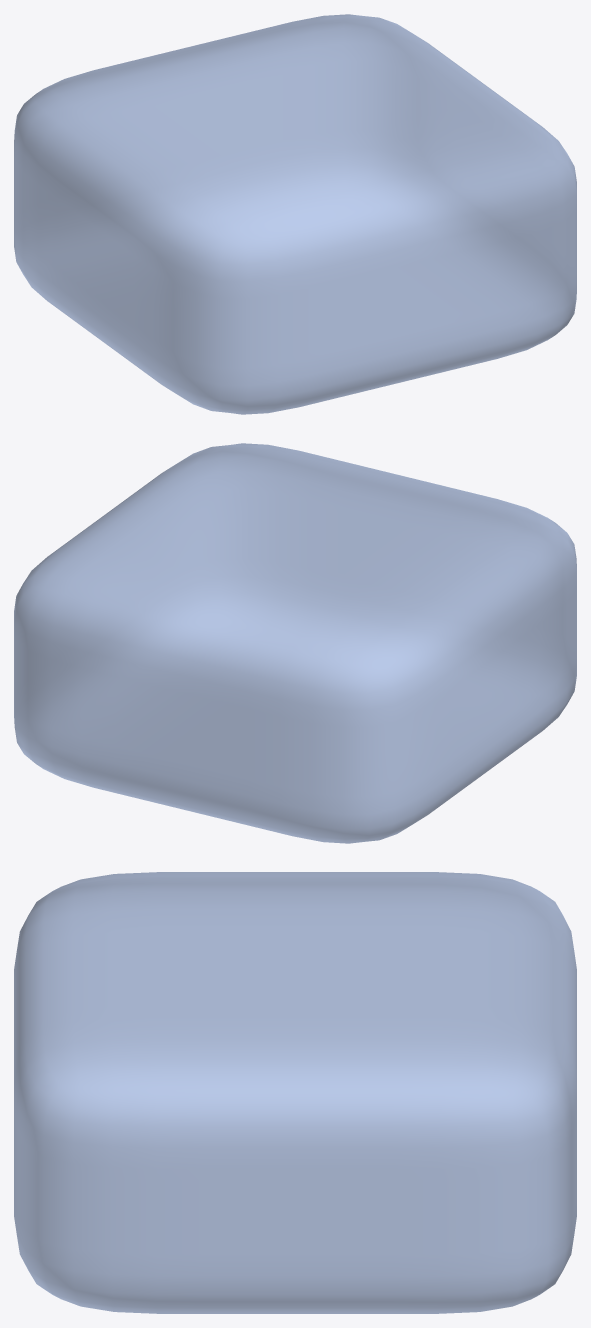
The model's file is ICECUBE.fbx.
The picture shows the model from 3 angles, top to bottom: view 1: azimuth 30°, elevation 25°; view 2: azimuth 150°, elevation 25°; view 3: azimuth 270°, elevation 25°; orthographic projection. The views are drawn at different scales.
Visible parts, largest first — view 1: Cube; view 2: Cube; view 3: Cube.
Part boxes in pixels (bbox=[...]): Cube: bbox=[14, 14, 576, 414]; Cube: bbox=[14, 443, 576, 843]; Cube: bbox=[14, 872, 576, 1313].
Size of the model in its own units: 4 by 2 by 4.
